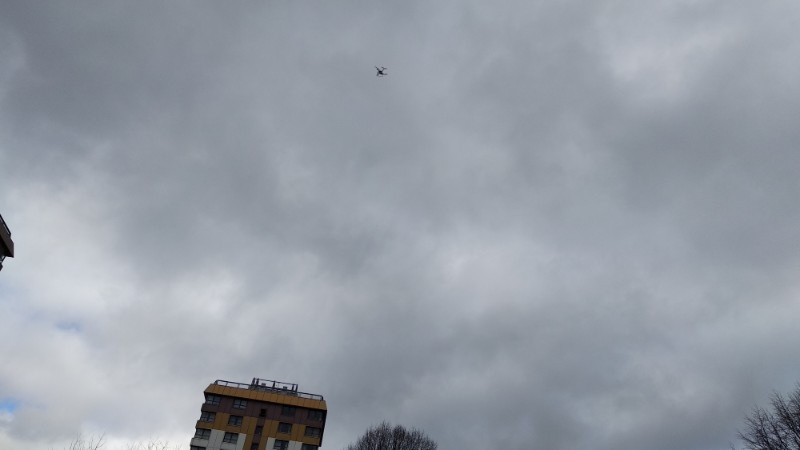drone: (376, 67, 387, 79)
